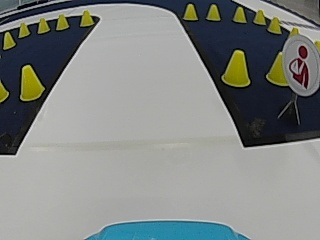cone: (222, 47, 250, 87), (20, 64, 43, 100), (266, 51, 287, 85), (183, 3, 198, 20), (267, 16, 281, 34), (79, 9, 93, 26), (3, 31, 16, 48), (56, 13, 69, 30), (0, 78, 9, 102), (37, 17, 50, 33), (207, 4, 220, 20), (233, 7, 246, 23), (18, 22, 30, 37), (253, 9, 265, 24)
patient: (286, 35, 314, 93)
